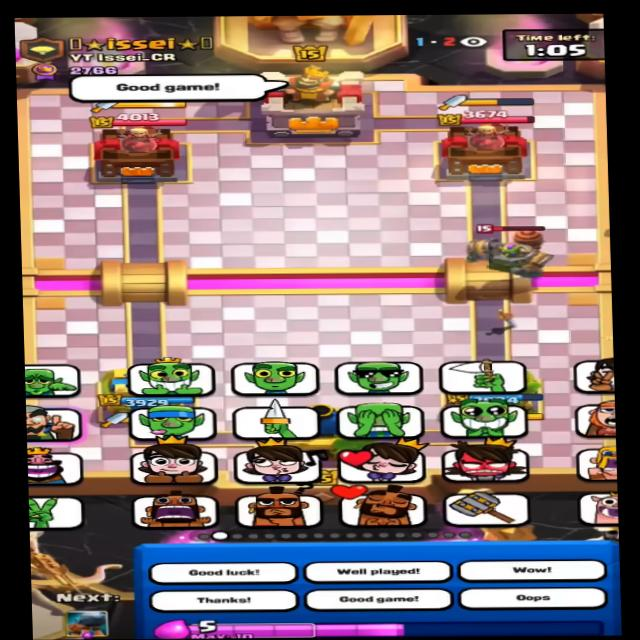Goblinmachine: (461, 220, 558, 282)
